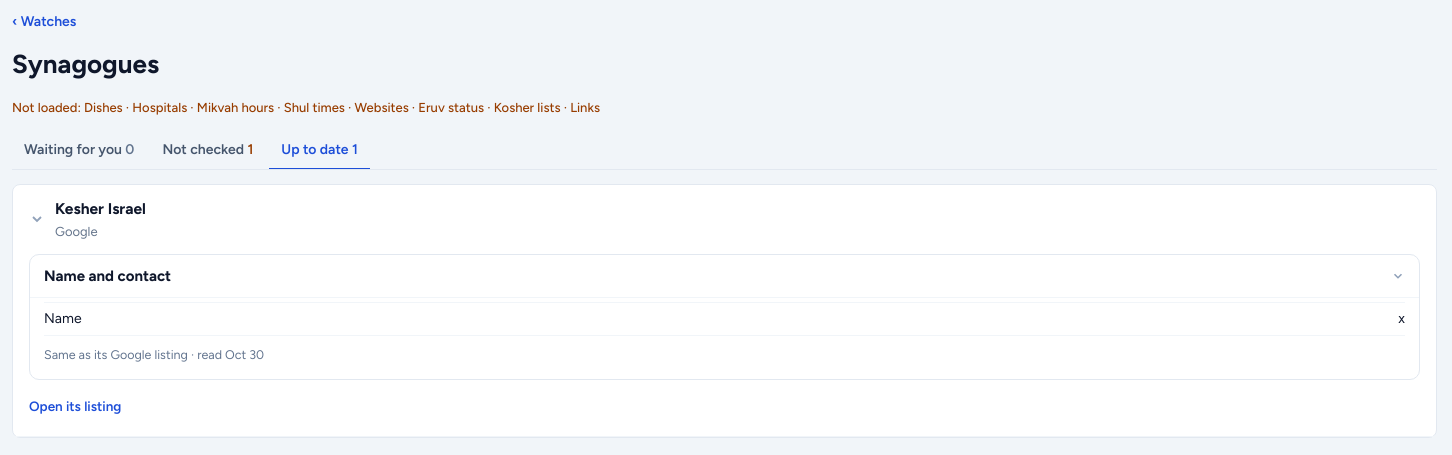
Scenario: what the job pages did, on its kind’s page › a link to a place opens it, on its tab
# Another tab picked: the link is done with.
Click the tab "Not checked 1".
click(208, 151)  # box [150,132,265,170]
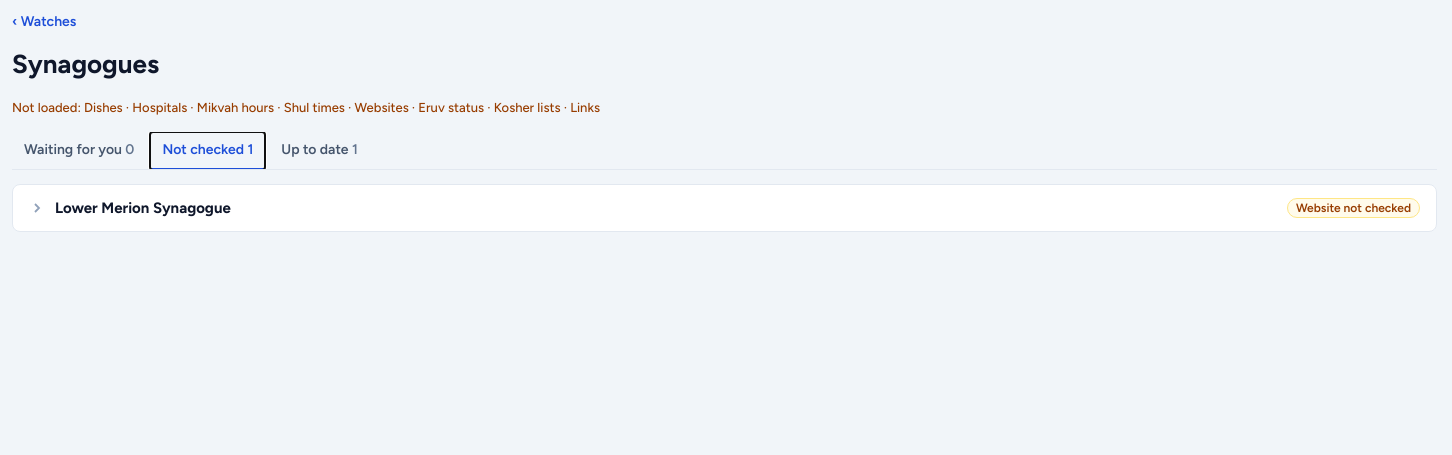
Expected: the list item with test id "kind-place-open" is gone
